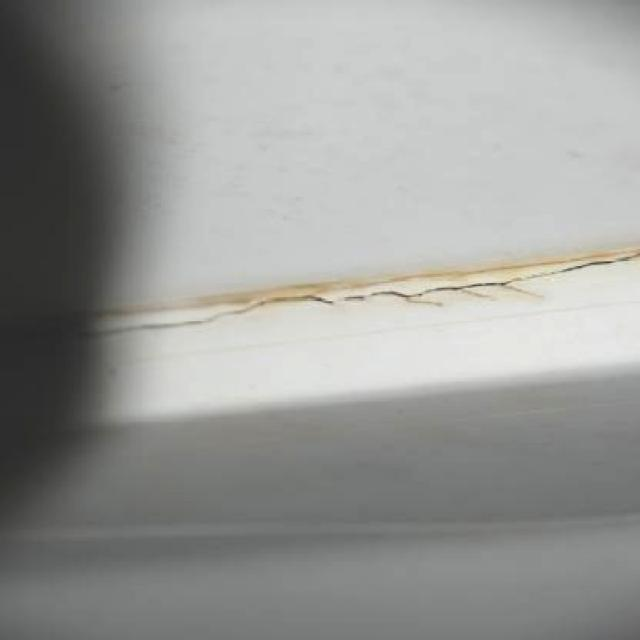crack: (98, 303, 257, 336), (412, 280, 506, 297), (561, 254, 637, 273), (260, 296, 329, 305), (337, 289, 411, 297)
